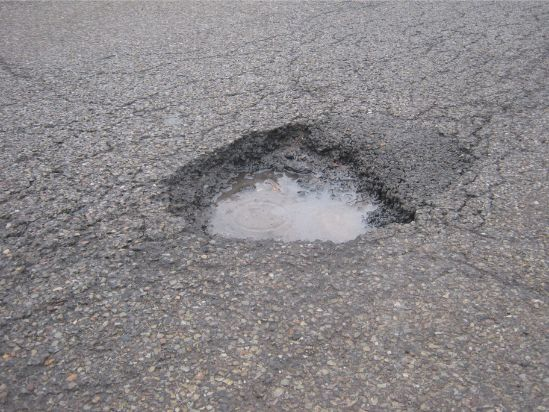pothole: (152, 118, 420, 242)
